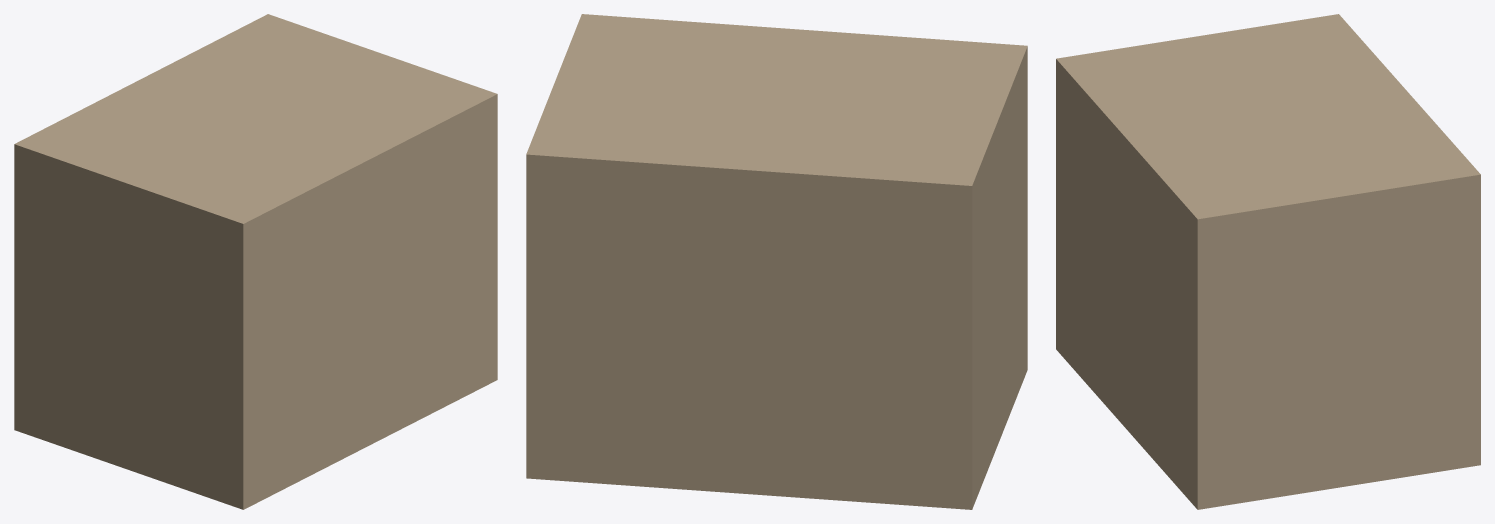
Rendered from bld_107639353.dae.
The picture shows the model from 3 angles, left to right: view 1: azimuth 30°, elevation 25°; view 2: azimuth 150°, elevation 25°; view 3: azimuth 270°, elevation 25°; orthographic projection. The views are drawn at different scales.
Visible parts, largest first — view 1: bld_107639353; view 2: bld_107639353; view 3: bld_107639353.
Part boxes in pixels (left/top/right/bottom): bld_107639353: left=14, top=14, right=497, bottom=509; bld_107639353: left=526, top=14, right=1027, bottom=509; bld_107639353: left=1056, top=14, right=1480, bottom=509.
Size of the model in its own units: 12.12 by 10.6 by 8.
